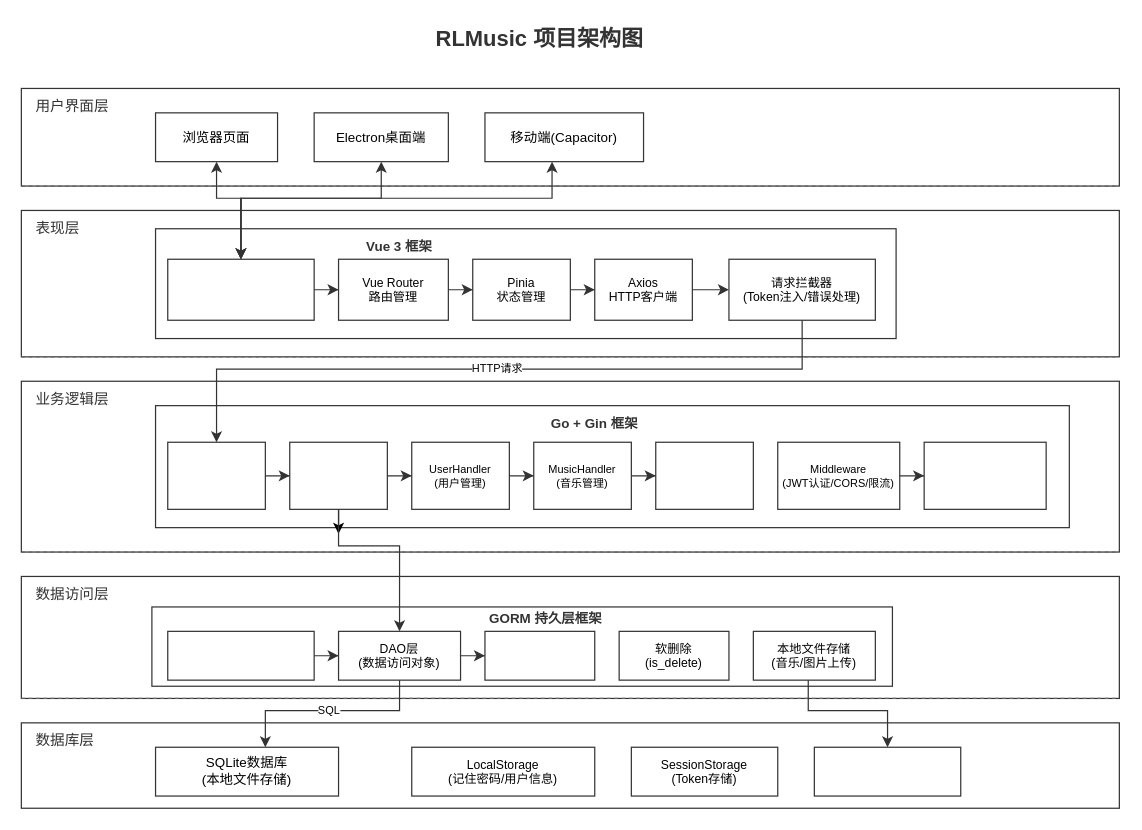
The diagram is 1142 pixels wide and 830 high, and some of its shapes have lost their labels. Each missing label, with the centre of its shape:
"AuthHandler (登录/注册)" belongs at (x=338, y=475).
"AutoMigrate (自动迁移)" belongs at (x=539, y=655).
"Handlers (HTTP处理器)" belongs at (x=216, y=475).
"JWT Service (Token生成/验证)" belongs at (x=984, y=475).
"Models (User/Song/Playlist)" belongs at (x=240, y=655).
"PlaylistHandler (歌单管理)" belongs at (x=704, y=475).
"Vue Components (Login/Player/Playlist)" belongs at (x=240, y=289).
"文件系统 (音乐/图片资源)" belongs at (x=887, y=771).
